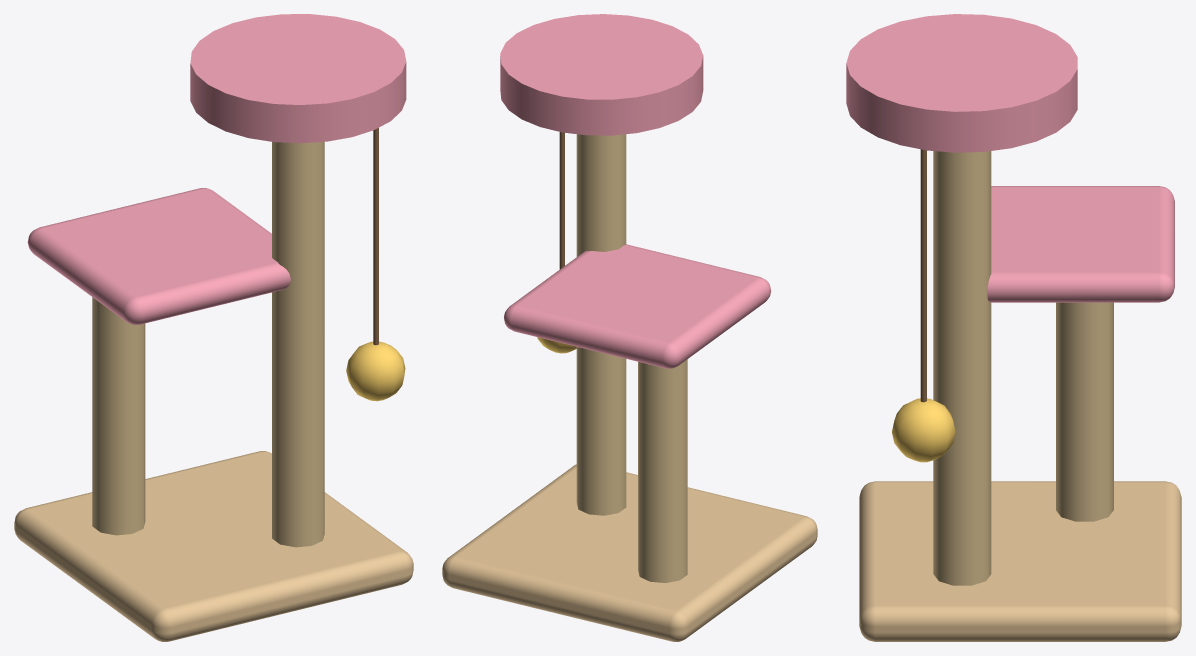
Rendered from cattree.glb.
3 renders of one model, left to right at view 1: azimuth 30°, elevation 25°; view 2: azimuth 150°, elevation 25°; view 3: azimuth 270°, elevation 25°, orthographic. The views are drawn at different scales.
Size of the model in its own units: 1.08 by 1.87 by 1.04.
